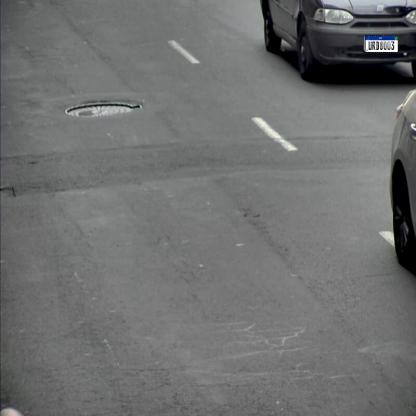PlacaM: (365, 35, 398, 53)
